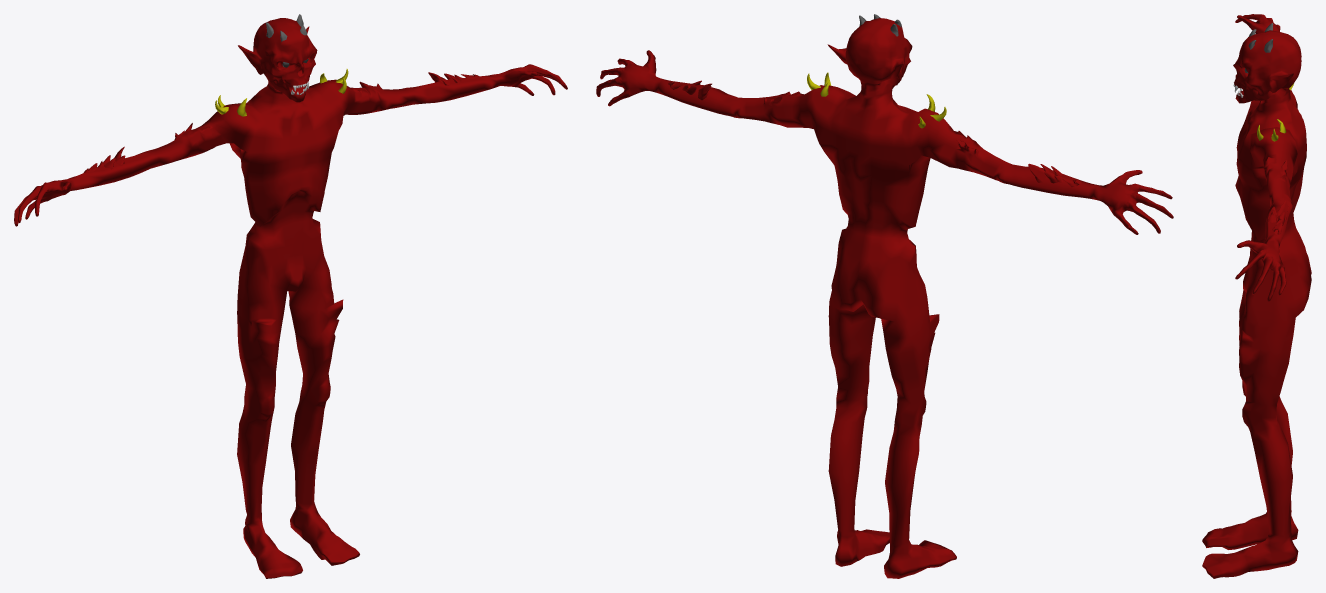
File: Lesser_Demon.fbx
3 renders of one model, left to right at view 1: azimuth 30°, elevation 25°; view 2: azimuth 150°, elevation 25°; view 3: azimuth 270°, elevation 25°, orthographic. The views are drawn at different scales.
Parts seen in each view (by area): view 1: Lesser_Demon; view 2: Lesser_Demon; view 3: Lesser_Demon.
Part boxes in pixels (x1,y1,x2,y2): Lesser_Demon: (14,14,567,578); Lesser_Demon: (596,14,1173,578); Lesser_Demon: (1202,14,1311,578).
Bounding box in the file's own units: 188 × 174 × 32.68.
